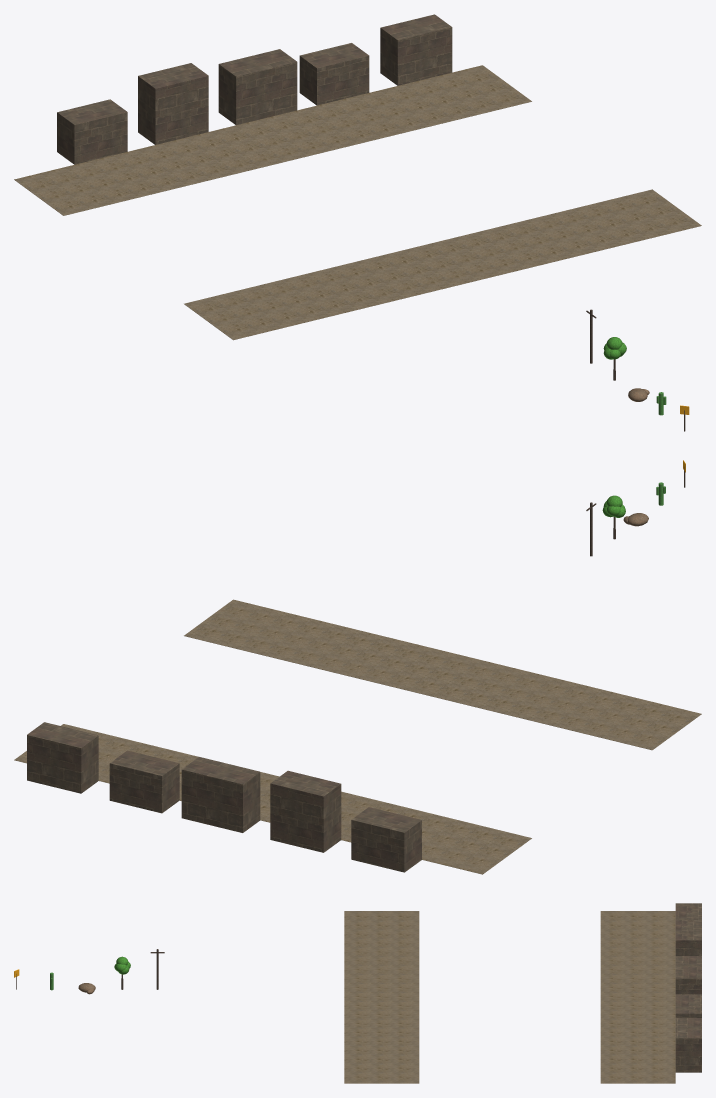
The model's file is taco-luar.glb.
3 renders of one model, top to bottom at view 1: azimuth 30°, elevation 25°; view 2: azimuth 150°, elevation 25°; view 3: azimuth 270°, elevation 25°, orthographic. The views are drawn at different scales.
Visible parts, largest first — view 1: statis; view 2: statis; view 3: statis.
Boxes of the visible parts, x1,y1,x2,y2 form: statis: (14,14,701,340); statis: (14,599,701,874); statis: (344,903,701,1083).
Bounding box in the file's own units: 46.4 × 6 × 78.1.
Materials: 8 (7 with a texture image).
